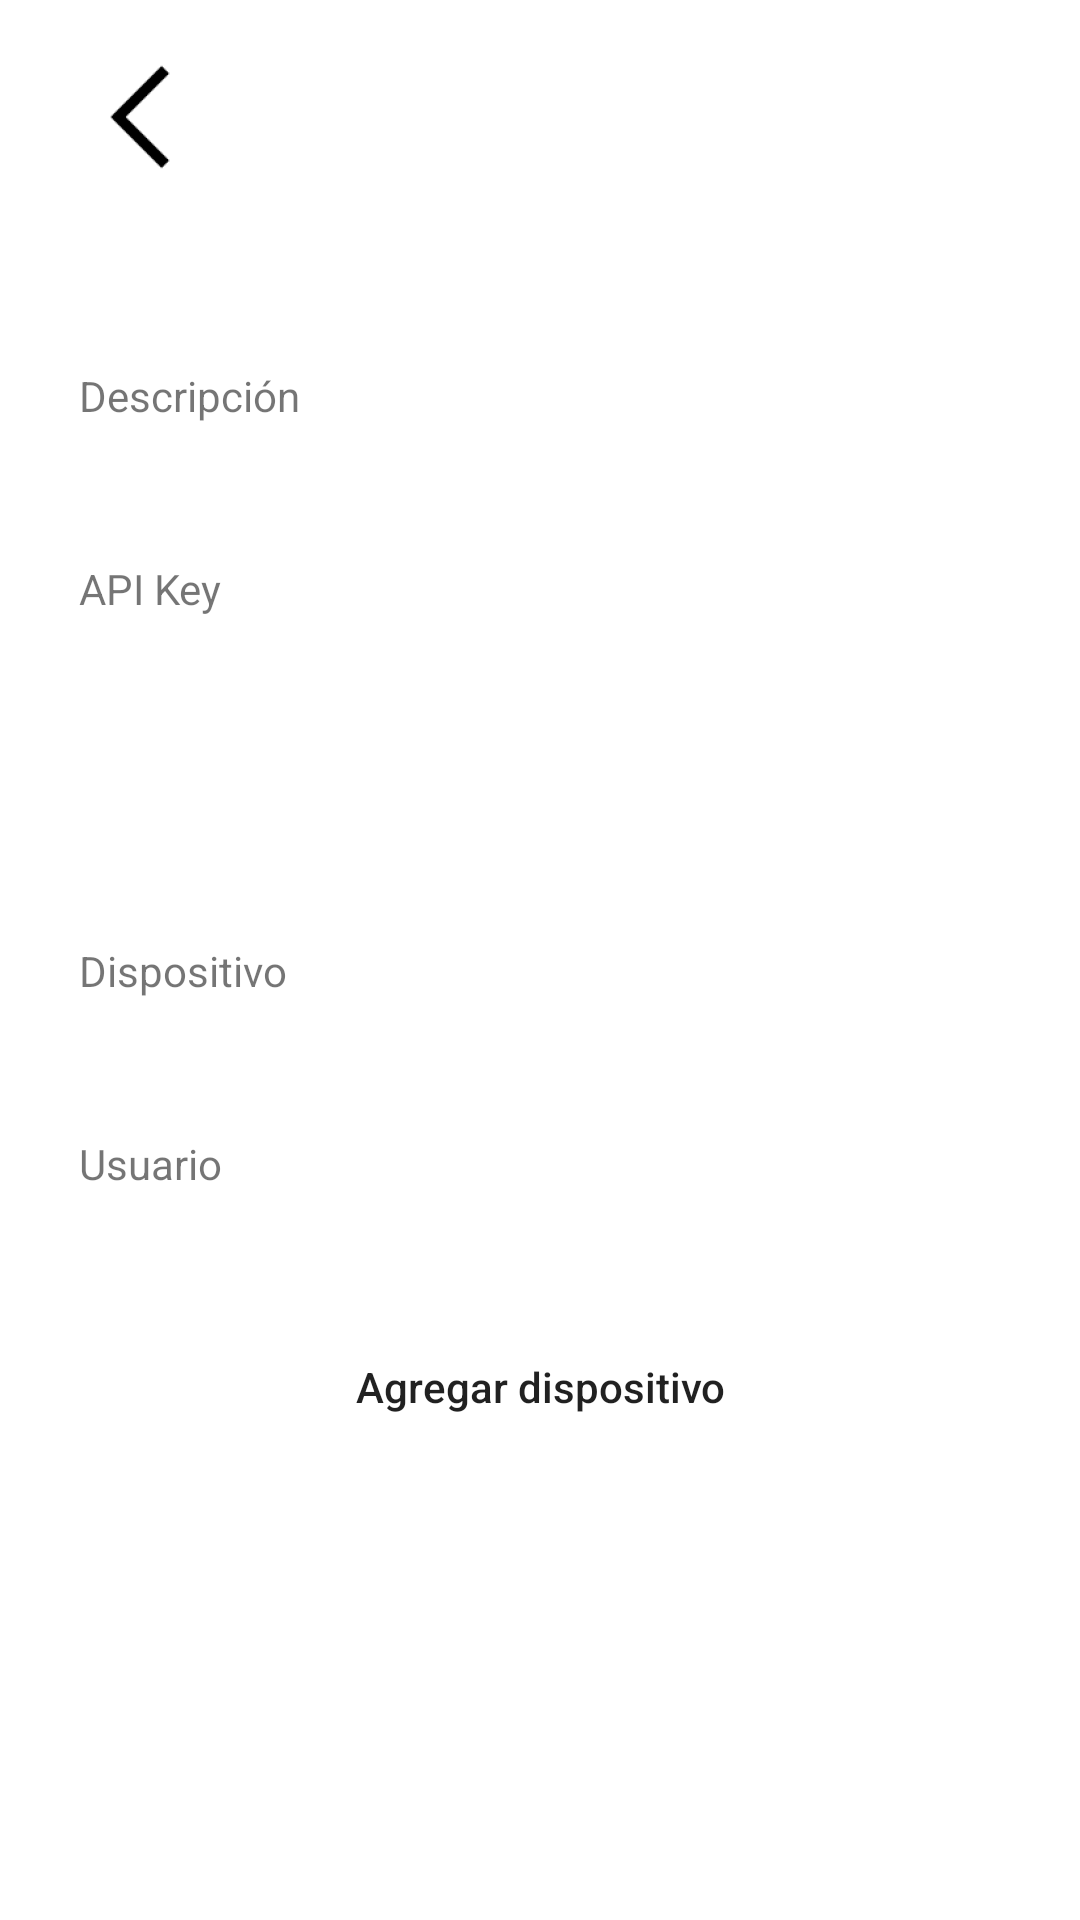

Icons on this 1080 x 1920 Android screen, each with the point to tap as [x,y]:
back: [140,117]
